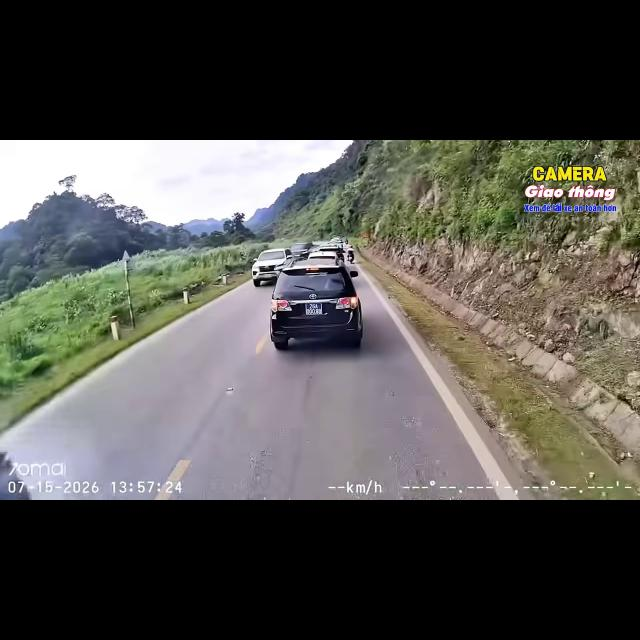car: (270, 258, 362, 349), (252, 249, 292, 286), (0, 452, 31, 499), (307, 250, 343, 263), (317, 245, 344, 260), (290, 242, 313, 258), (330, 236, 348, 243)
motorcycle: (347, 251, 354, 263)
